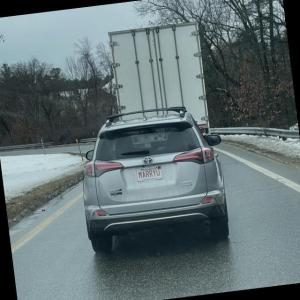Plate: (135, 164, 163, 182)
